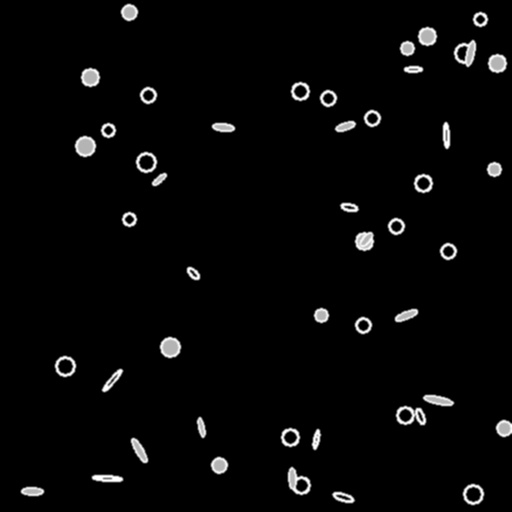pseudomonas: (101, 368, 123, 392), (130, 437, 148, 463), (423, 394, 453, 406), (464, 40, 476, 66), (395, 308, 417, 322), (185, 265, 201, 281), (358, 231, 374, 247), (333, 491, 353, 503), (151, 172, 167, 186), (414, 407, 426, 425), (336, 120, 354, 132), (340, 202, 358, 212), (93, 475, 121, 481), (312, 429, 320, 449), (288, 468, 296, 488), (213, 123, 233, 131), (443, 122, 449, 148), (197, 418, 205, 436), (22, 488, 42, 494), (404, 66, 422, 72)
synechocystis: (56, 357, 74, 375), (464, 485, 482, 503), (76, 137, 94, 155), (455, 44, 473, 62), (161, 338, 179, 356), (137, 153, 155, 171), (415, 175, 431, 191), (292, 83, 308, 99), (397, 407, 413, 423), (293, 477, 309, 493), (82, 69, 98, 85), (356, 233, 372, 249), (282, 429, 298, 445), (489, 55, 505, 71), (419, 28, 435, 44), (497, 421, 511, 435), (365, 111, 379, 125), (441, 244, 455, 258), (212, 458, 226, 472), (321, 91, 335, 105), (356, 318, 370, 332), (389, 219, 403, 233), (141, 88, 155, 102), (122, 5, 136, 19), (123, 213, 135, 225), (315, 309, 327, 321), (102, 124, 114, 136), (488, 163, 500, 175), (401, 42, 413, 54), (474, 13, 486, 25)
